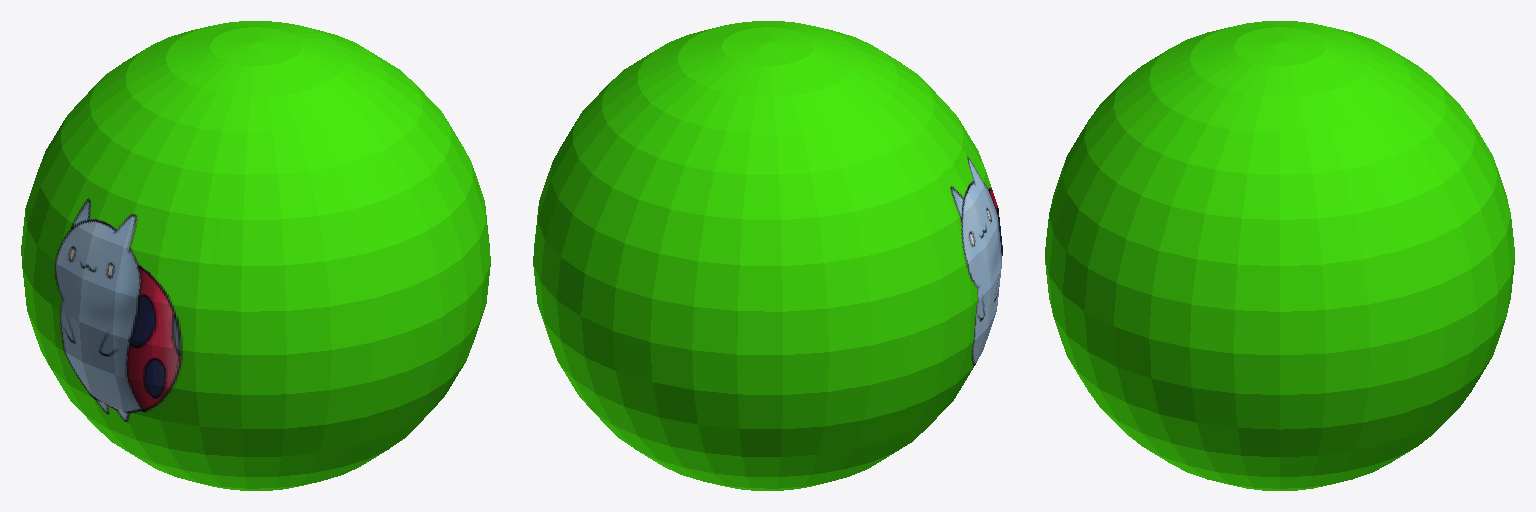
The picture shows the model from 3 angles: view 1: azimuth 30°, elevation 25°; view 2: azimuth 150°, elevation 25°; view 3: azimuth 270°, elevation 25°; orthographic projection.
Visible parts, largest first — view 1: Mesh.001_Sphere; view 2: Mesh.001_Sphere; view 3: Mesh.001_Sphere.
Part boxes in pixels (left/top/right/bottom): Mesh.001_Sphere: left=21, top=21, right=490, bottom=490; Mesh.001_Sphere: left=533, top=21, right=1002, bottom=490; Mesh.001_Sphere: left=1045, top=21, right=1514, bottom=490.
Bounding box in the file's own units: 0.8 × 0.8 × 0.8.
Materials: 1 (1 with a texture image).